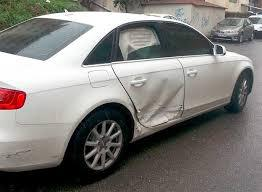doorouter-dent: (133, 64, 180, 128)
